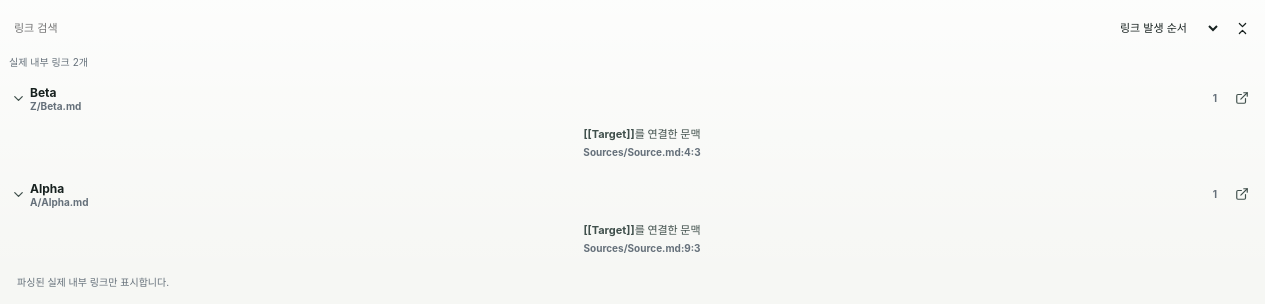
LinkOccurrencePanel › offers explicit occurrence, name, path, and update sorting
The image size is (1265, 304).
Step 1. Select "파일 이름" in the dropdown named "링크 정렬" → (1165, 28), box [1109, 7, 1221, 49]
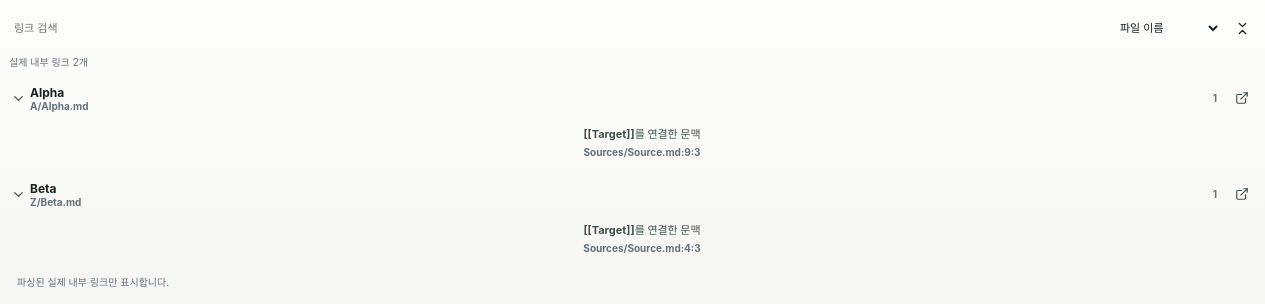
Result: the headings read "Alpha", "Beta", in this order at [30, 84, 64, 100]; [30, 180, 56, 195]
Step 2. Select "최근 업데이트" in the dropdown named "링크 정렬" → (1165, 28), box [1109, 7, 1221, 49]
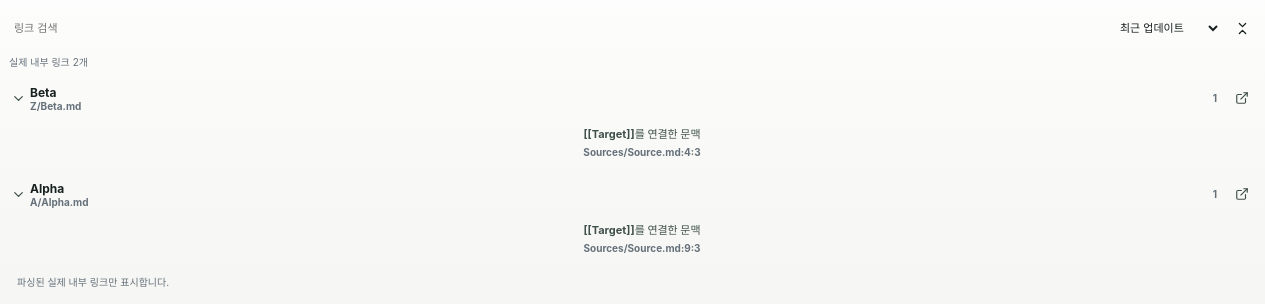
Result: the headings read "Beta", "Alpha", in this order at [30, 84, 56, 100]; [30, 180, 64, 195]
